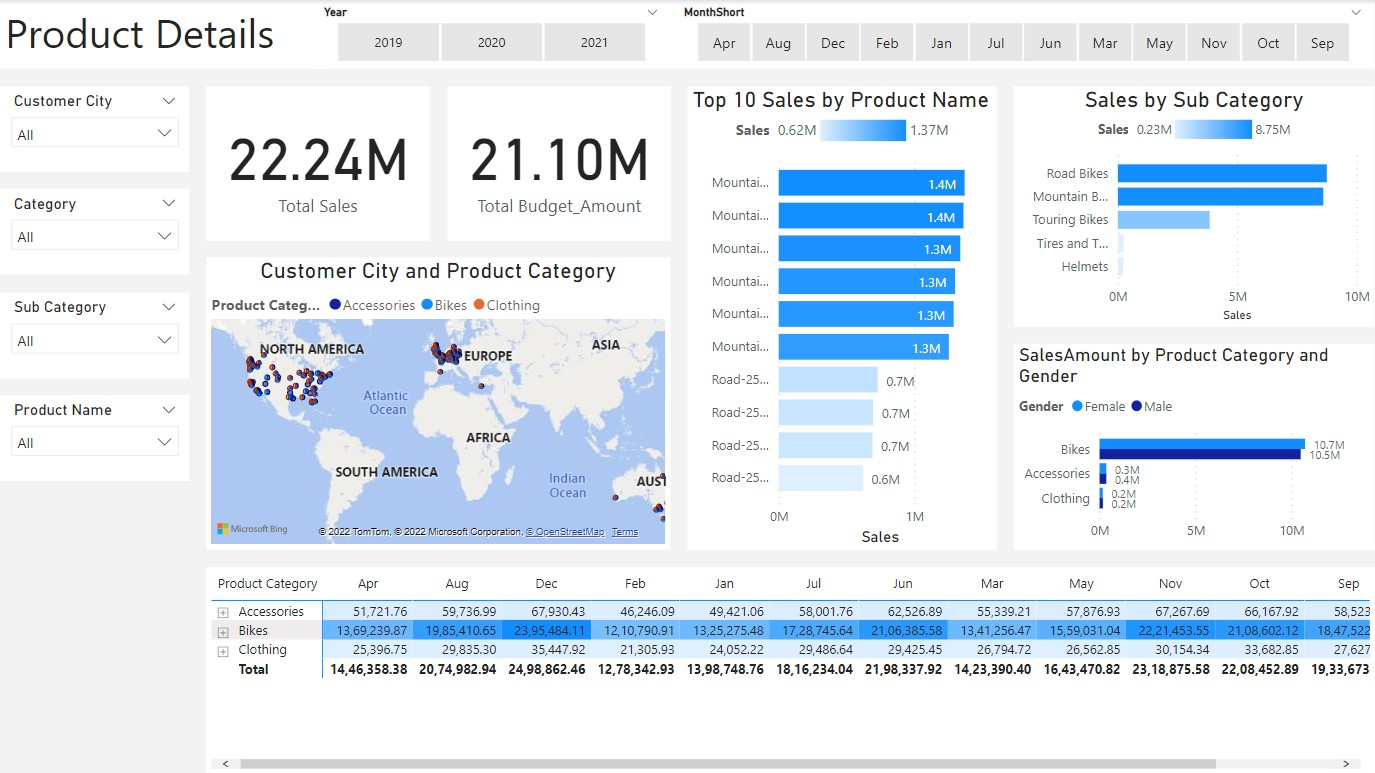

Layout of this report page (visuals, bound fields, positions):
{"tool":"powerbi","page":{"name":"Product Details","canvas":[1280,720],"ordinal":2},"visuals":[{"type":"slicer","fields":{"Values":["DIM_Products.Product Name"]},"box":[0,368,176,80],"z":0},{"type":"slicer","fields":{"Values":["DIM_Products.Sub Category"]},"box":[0,272,176,80],"z":1},{"type":"slicer","fields":{"Values":["DIM_Products.Product Category"]},"box":[0,176,176,80],"z":2},{"type":"slicer","fields":{"Values":["DIM_Customer.Customer City"]},"box":[0,80,176,80],"z":3},{"type":"textbox","box":[0,0,304,64],"z":4},{"type":"slicer","fields":{"Values":["Dim_Date_Excel.Year"]},"box":[288,0,336,64],"z":5},{"type":"slicer","fields":{"Values":["Dim_Date_Excel.MonthShort"]},"box":[624,0,656,64],"z":6},{"type":"card","fields":{"Values":["FactInternetSale.Sales"]},"box":[192,80,208,144],"z":7},{"type":"card","fields":{"Values":["Budget.Budget_Amount"]},"box":[416,80,208,144],"z":8},{"type":"map","fields":{"Series":["DIM_Products.Product Category"],"Category":["DIM_Customer.Customer City"]},"box":[192,240,432,272],"z":9},{"type":"barChart","title":"Top 10 Sales by Product Name","fields":{"Category":["DIM_Products.Product Name"],"Y":["FactInternetSale.Sales"]},"box":[640,80,288,432],"z":10},{"type":"barChart","fields":{"Category":["DIM_Products.Sub Category"],"Y":["FactInternetSale.Sales"]},"box":[944,80,336,224],"z":11},{"type":"clusteredBarChart","fields":{"Category":["DIM_Products.Product Category"],"Series":["DIM_Customer.Gender"],"Y":["Sum(FactInternetSale.SalesAmount)"]},"box":[944,320,336,192],"z":12},{"type":"pivotTable","fields":{"Rows":["DIM_Products.Product Category","DIM_Products.Product Name"],"Values":["FactInternetSale.Sales"],"Columns":["Dim_Date_Excel.MonthShort"]},"box":[192,528,1088,192],"z":13}]}

Visuals, with their boxes in screenshot pixels (x1, y1, x2, y2), scaled from the page's 1280x720 canvas onto the 1375x773 screenshot:
slicer - DIM_Products.Product Name: <bbox>0, 395, 189, 481</bbox>
slicer - DIM_Products.Sub Category: <bbox>0, 292, 189, 378</bbox>
slicer - DIM_Products.Product Category: <bbox>0, 189, 189, 275</bbox>
slicer - DIM_Customer.Customer City: <bbox>0, 86, 189, 172</bbox>
textbox: <bbox>0, 0, 327, 69</bbox>
slicer - Dim_Date_Excel.Year: <bbox>309, 0, 670, 69</bbox>
slicer - Dim_Date_Excel.MonthShort: <bbox>670, 0, 1374, 69</bbox>
card - FactInternetSale.Sales: <bbox>206, 86, 430, 240</bbox>
card - Budget.Budget_Amount: <bbox>447, 86, 670, 240</bbox>
map - DIM_Products.Product Category x DIM_Customer.Customer City: <bbox>206, 258, 670, 550</bbox>
"Top 10 Sales by Product Name" barChart: <bbox>688, 86, 997, 550</bbox>
barChart - DIM_Products.Sub Category x FactInternetSale.Sales: <bbox>1014, 86, 1374, 326</bbox>
clusteredBarChart - DIM_Products.Product Category x DIM_Customer.Gender: <bbox>1014, 344, 1374, 550</bbox>
pivotTable - DIM_Products.Product Category x DIM_Products.Product Name: <bbox>206, 567, 1374, 772</bbox>
